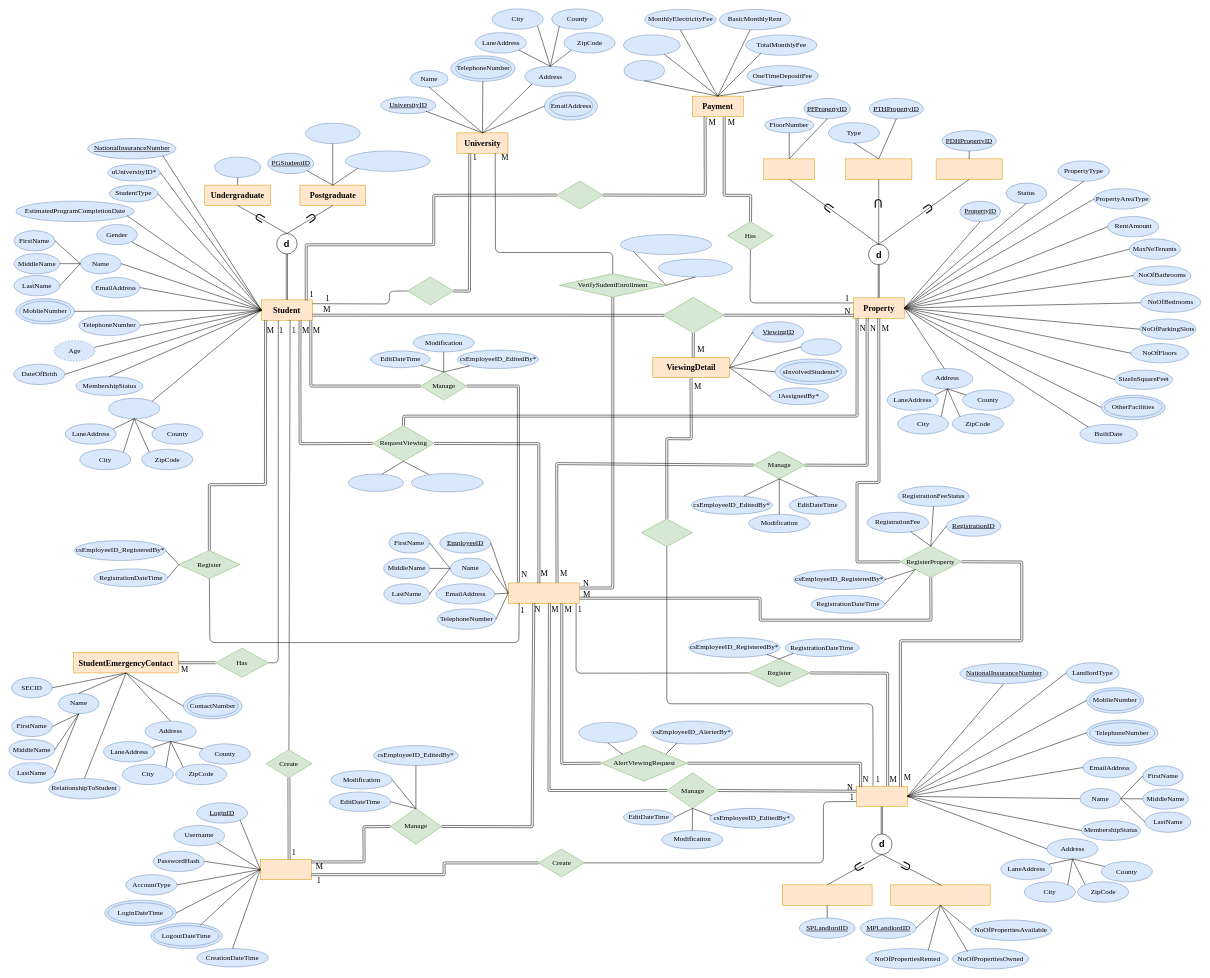
Image size: 1210x978. Some labels were removed from this diagram. The box of each missing label's shape, as (x1, y1, x2, y2) in pixels:
AlertDateTime: (578, 722, 637, 743)
Assign: (641, 518, 692, 546)
csEmployeeID_VerifiedBy*: (620, 234, 712, 254)
CurrentAddress: (108, 398, 160, 419)
CustomerService: (508, 582, 580, 603)
Date: (800, 338, 842, 355)
DetachedHouse: (936, 158, 1002, 179)
EmployerContactNumber: (345, 150, 430, 171)
EmployerName: (305, 123, 360, 144)
Enrolled: (407, 276, 453, 305)
Flat: (763, 158, 815, 179)
Landlord: (856, 786, 907, 807)
Login: (260, 859, 311, 880)
MonthlyWaterFee: (623, 34, 680, 55)
MultiplePropertyLandlord: (890, 884, 990, 905)
Pay: (556, 181, 603, 209)
PaymentID: (623, 60, 665, 81)
RequestedDateTime: (411, 473, 483, 492)
SinglePropertyLandlord: (782, 884, 872, 905)
sRequestedBy*: (348, 474, 403, 491)
TerracedHouse: (845, 158, 912, 179)
UGStudentID: (214, 157, 261, 177)
VerificationDateTime: (658, 259, 732, 277)
ViewingProperty: (662, 297, 724, 333)
